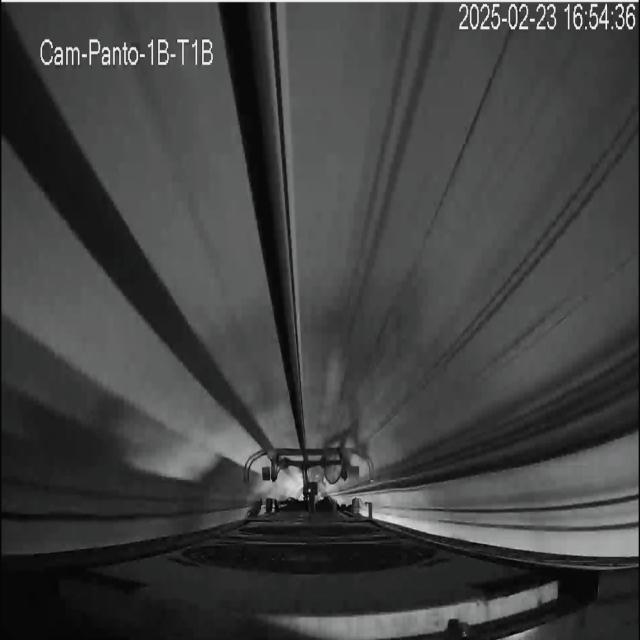Camera Stamp: (39, 34, 221, 69)
Date Stamp: (459, 3, 637, 33)
No - Spark: (246, 443, 370, 512)
